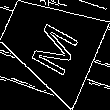M_NW: (21, 12, 79, 75)
